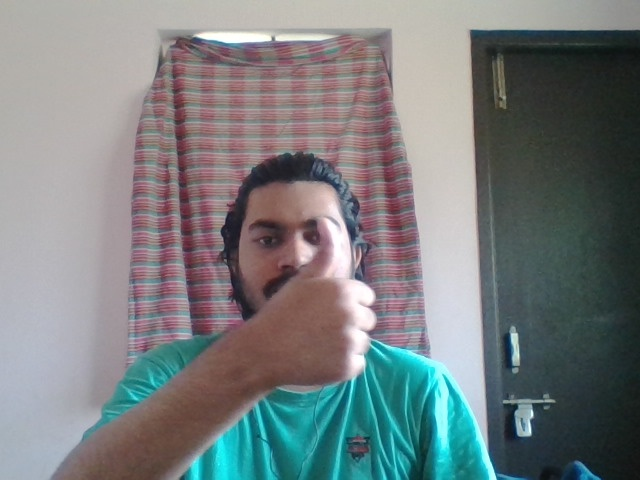ThumbsUp: (268, 218, 377, 387)
